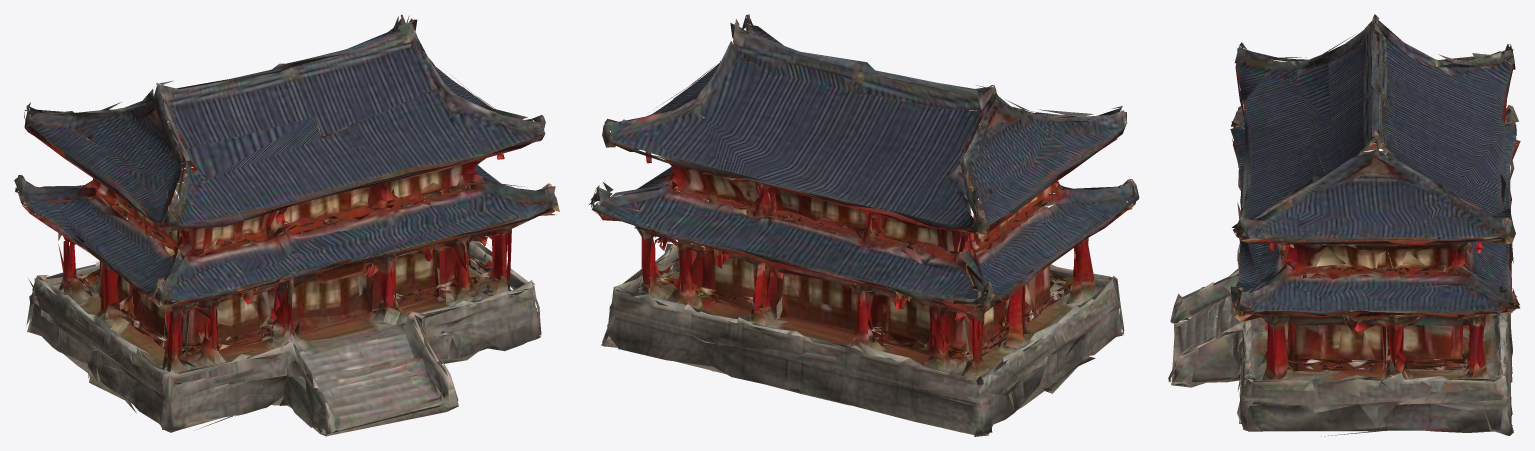
The model's file is casa_g_lod1.glb.
3 views of the same model, side by side, from view 1: azimuth 30°, elevation 25°; view 2: azimuth 150°, elevation 25°; view 3: azimuth 270°, elevation 25° (orthographic). The views are drawn at different scales.
Parts seen in each view (by area): view 1: casa_g; view 2: casa_g; view 3: casa_g.
Boxes of the visible parts, x1,y1,x2,y2 form: casa_g: [14, 14, 559, 436]; casa_g: [589, 14, 1139, 436]; casa_g: [1168, 14, 1520, 436].
Bounding box in the file's own units: 14.36 × 10.19 × 11.3.
Materials: 1 (1 with a texture image).
